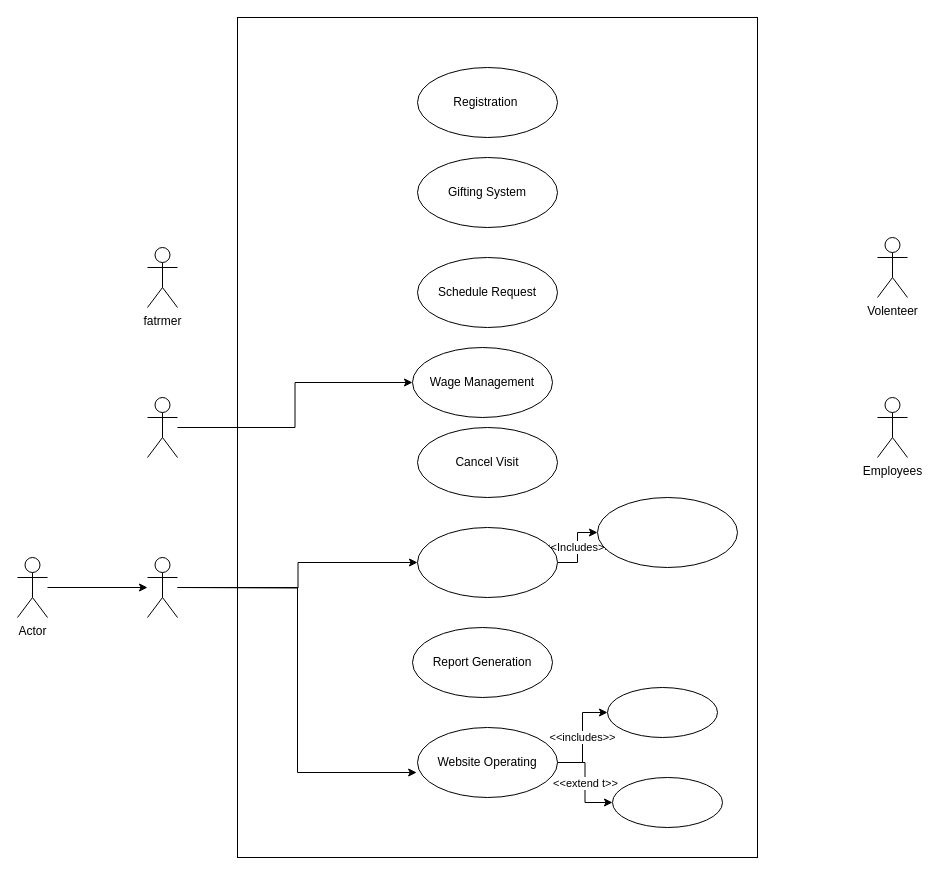
Some shapes in this 939 by 875 pixel diagram are drawn without their labels. Here are the shapes that lost their labels. From the top down, the centre of each, then its label:
At [162,427]: "Gift Manager".
At [667,532]: "Photos sharing".
At [487,562]: "Web Portals".
At [162,587]: "Adminisrator".
At [662,712]: "Data Backup and Recovery".
At [667,802]: "Upgradation".
